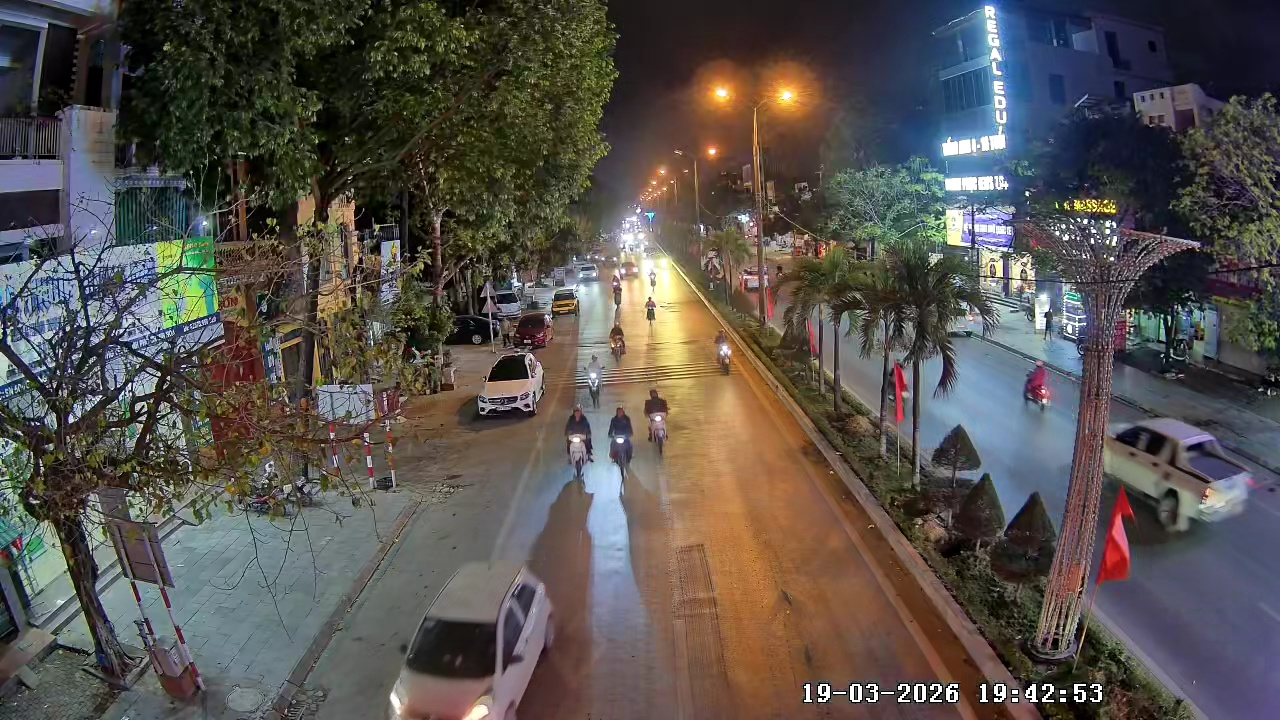car: (387, 562, 559, 719), (1102, 414, 1254, 536), (475, 348, 547, 418), (513, 309, 552, 348), (551, 284, 580, 318)
motorbike: (563, 404, 596, 474), (606, 404, 636, 470), (1020, 358, 1053, 416), (643, 387, 670, 457), (581, 354, 605, 410), (714, 331, 734, 375), (608, 323, 627, 361), (645, 281, 659, 322), (612, 272, 624, 295)
